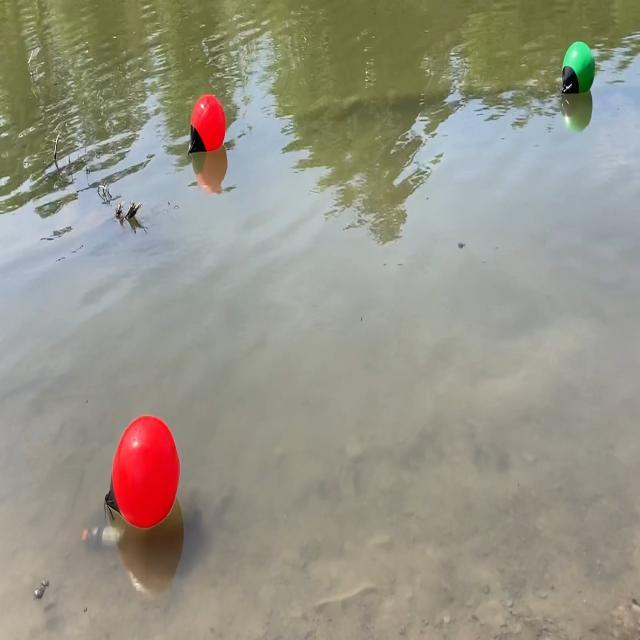buoy: (100, 412, 184, 535), (187, 90, 227, 156), (558, 40, 600, 100)
